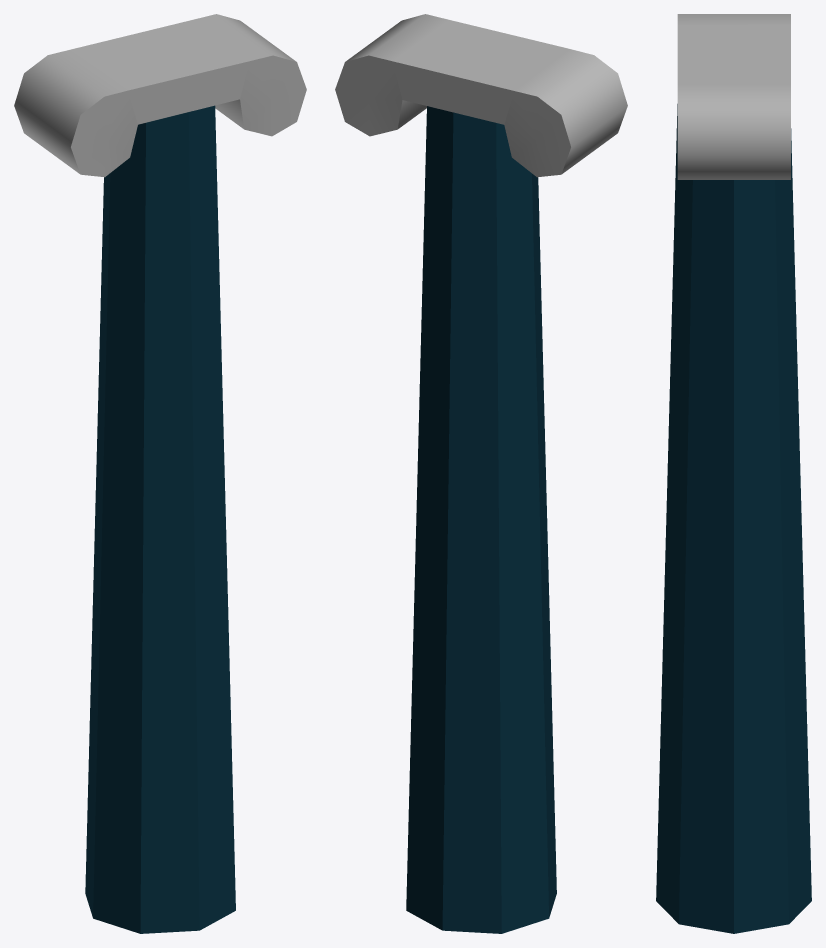
Rendered from colonne2.fbx.
3 views of the same model, side by side, from view 1: azimuth 30°, elevation 25°; view 2: azimuth 150°, elevation 25°; view 3: azimuth 270°, elevation 25° (orthographic).
Visible parts, largest first — view 1: col, ion; view 2: col, ion; view 3: col, ion.
Boxes of the visible parts, <box> form: col: <box>85,105,235,933</box>; ion: <box>14,14,306,177</box>; col: <box>406,106,556,933</box>; ion: <box>335,14,627,177</box>; col: <box>656,104,811,933</box>; ion: <box>677,14,790,179</box>.
Bounding box in the file's own units: 9.05 × 31.01 × 5.18.
